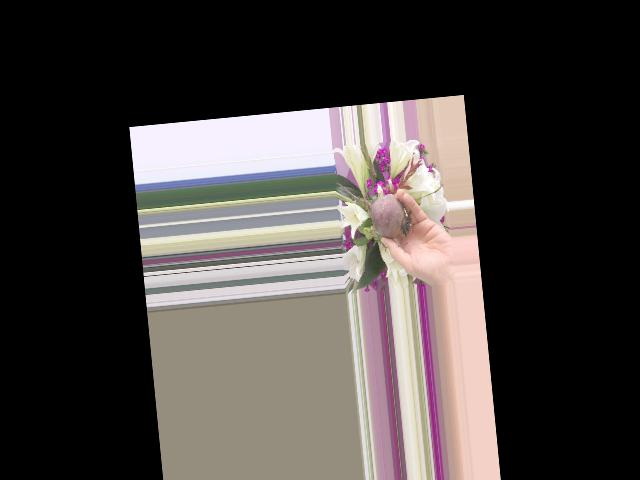beet: (337, 175, 412, 242)
